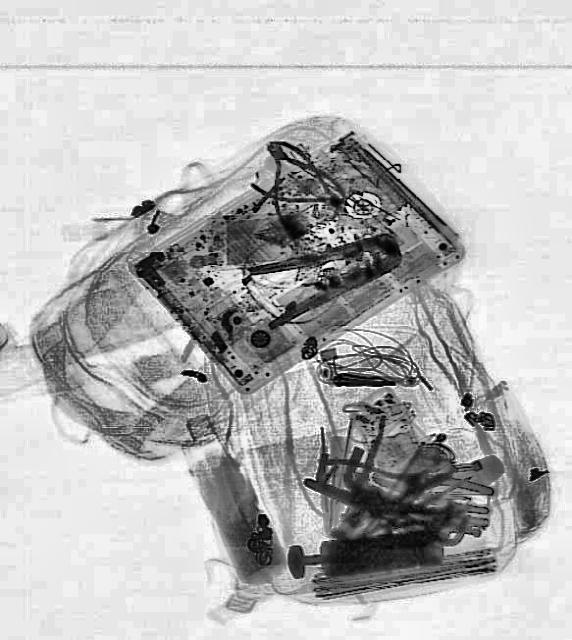Pliers: (244, 218, 409, 328), (241, 122, 357, 248), (245, 133, 361, 230)
